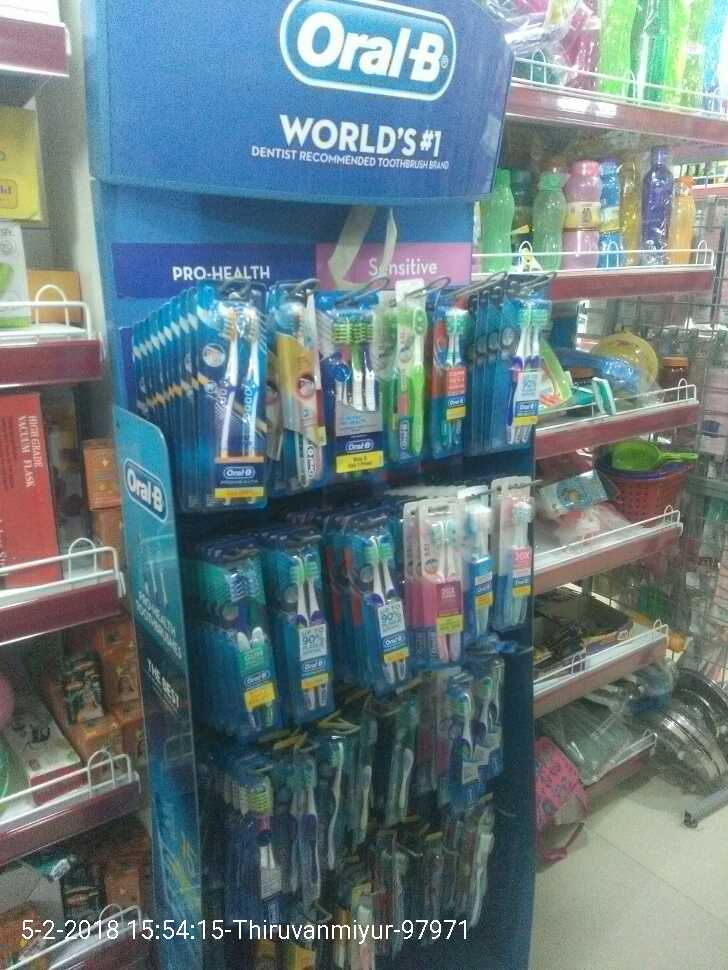oralb: (182, 286, 278, 497), (210, 554, 277, 740), (342, 514, 410, 687), (320, 311, 386, 469), (475, 286, 532, 454), (410, 507, 460, 657), (281, 544, 322, 710), (493, 487, 538, 633), (450, 498, 493, 646), (429, 307, 471, 457), (403, 275, 427, 464)
